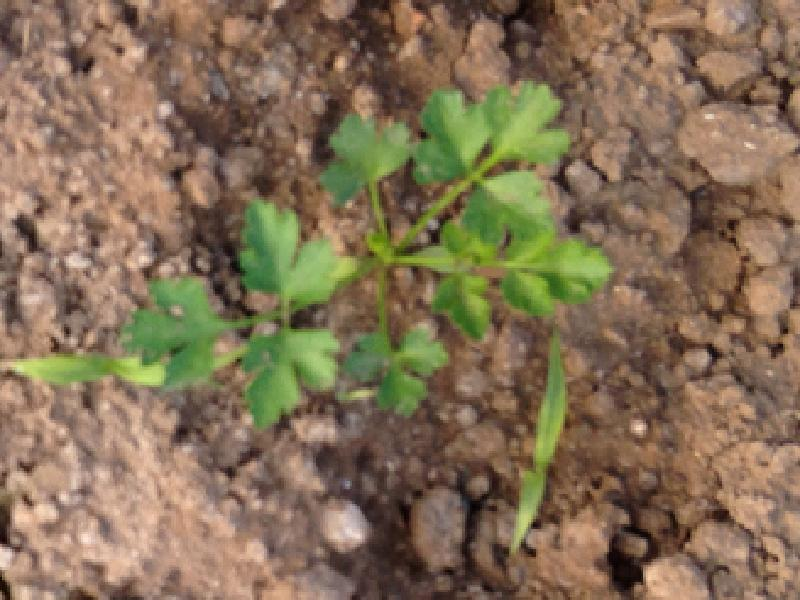radish: (120, 81, 615, 431)
